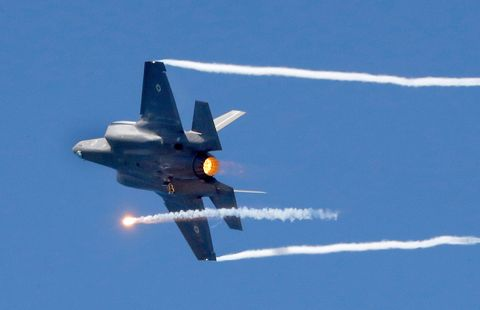F-35 Lightning: (66, 39, 284, 269)
